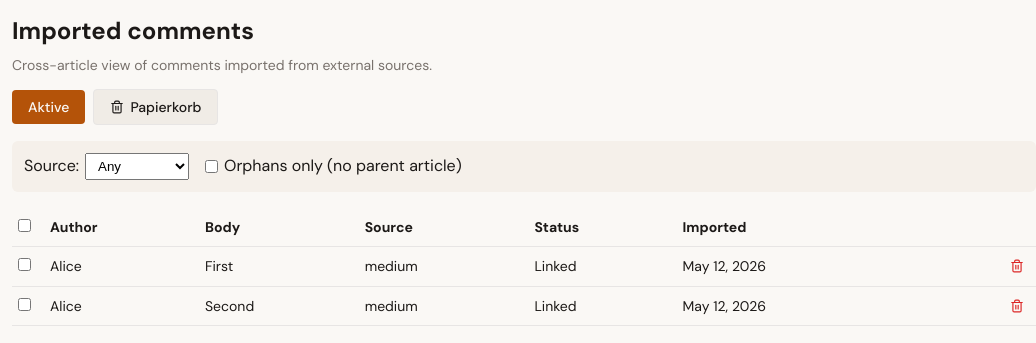
Test: CommentsAdminSection delete flow › removes the row from the list on successful delete
This screenshot has width=1036, height=343.
Click the button with test id "comments-admin-delete-alpha": (1017, 266) [1004,253,1030,279]
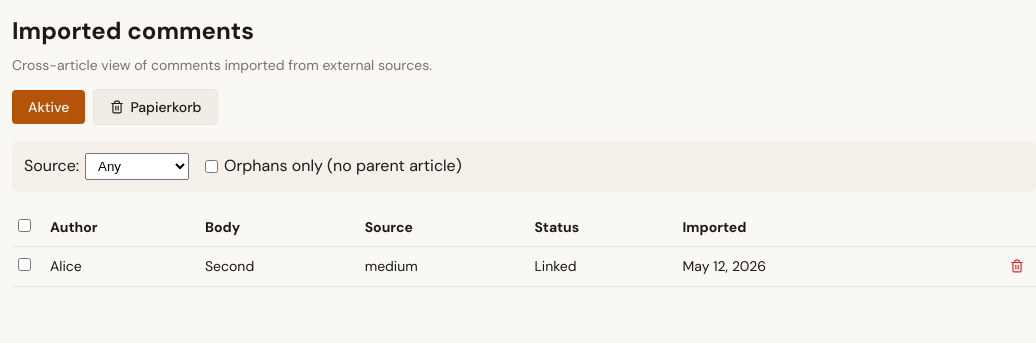
Expected: the row with test id "comments-admin-row-beta" is shown, [12,247,1035,286]
Expected: the row with test id "comments-admin-row-alpha" is gone
